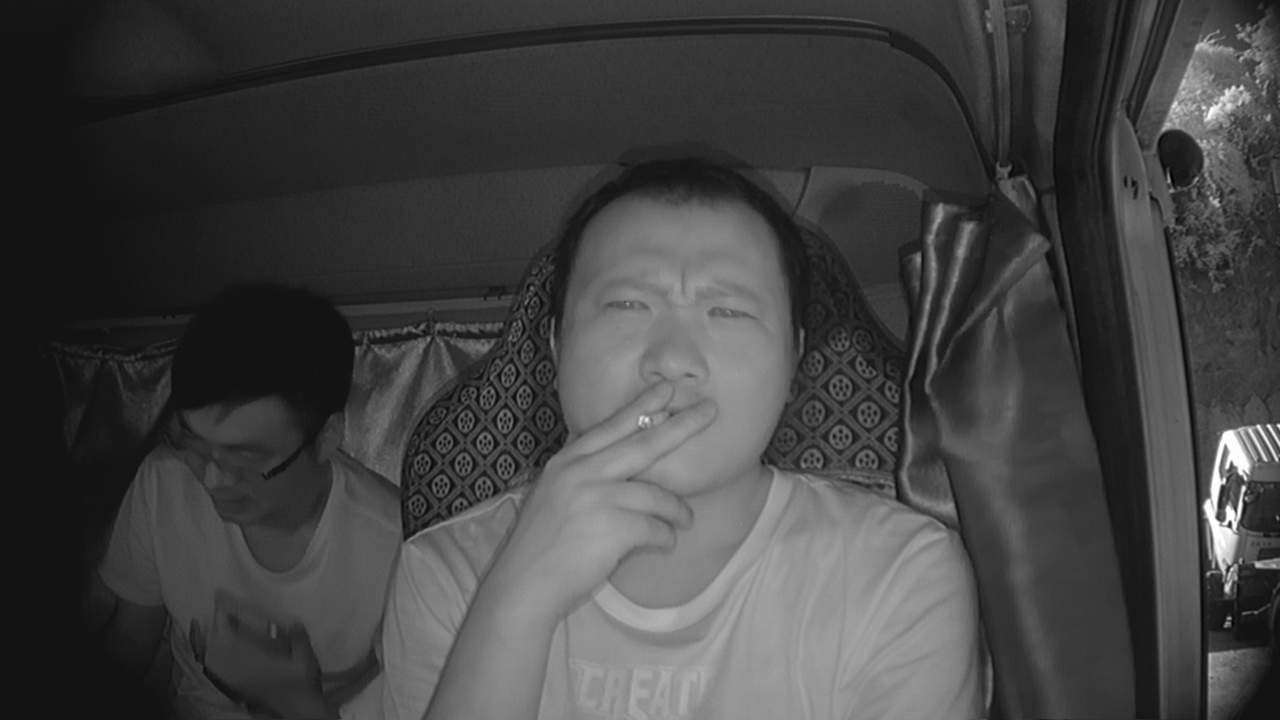hand: (560, 385, 715, 566)
